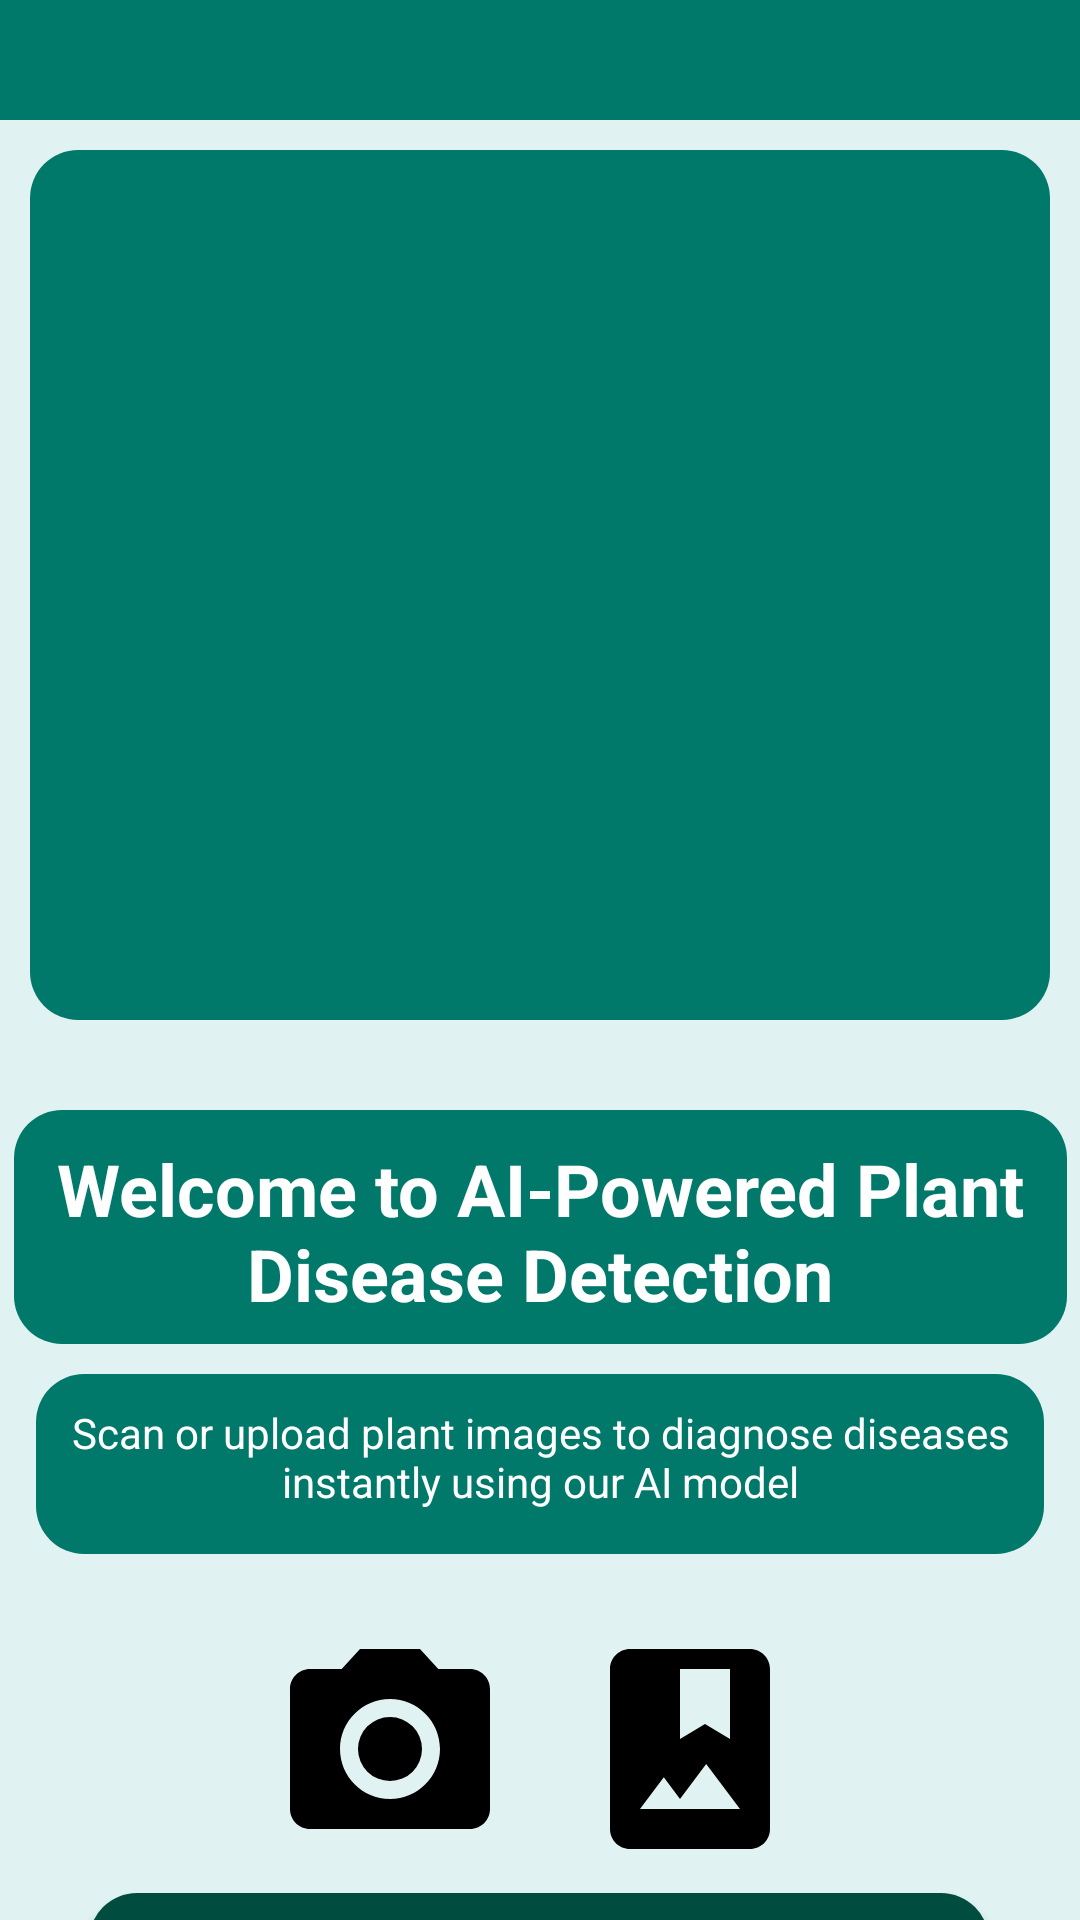

Named icons in this screenshot (1080×1920) and their bounding boxes, (x1, y1, x2, y2):
Open album to take a picture: (610, 1649, 770, 1849)
Open Camera to take a picture: (290, 1649, 490, 1829)
